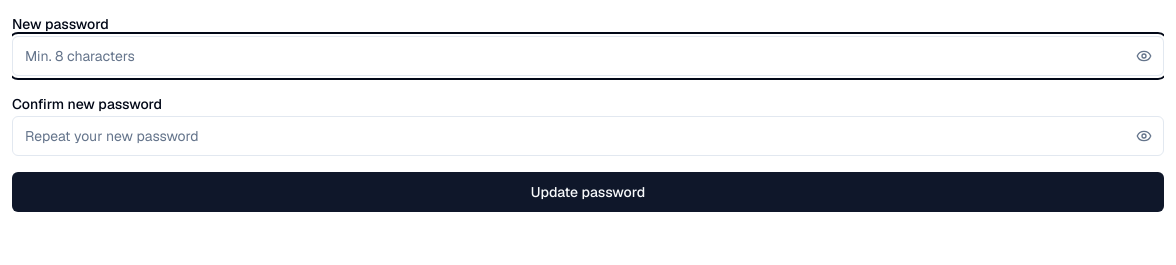
ResetPasswordForm › surfaces an expired-token error from the server
Step 1. Type "correcthorse" into the password field labelled "New password" → (588, 56), box [12,36,1164,76]
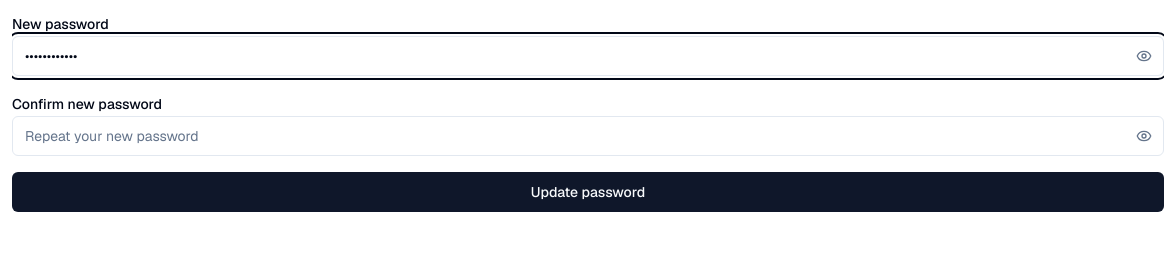
Step 2. Type "correcthorse" into the password field labelled "Confirm new password" → (588, 136), box [12,116,1164,156]
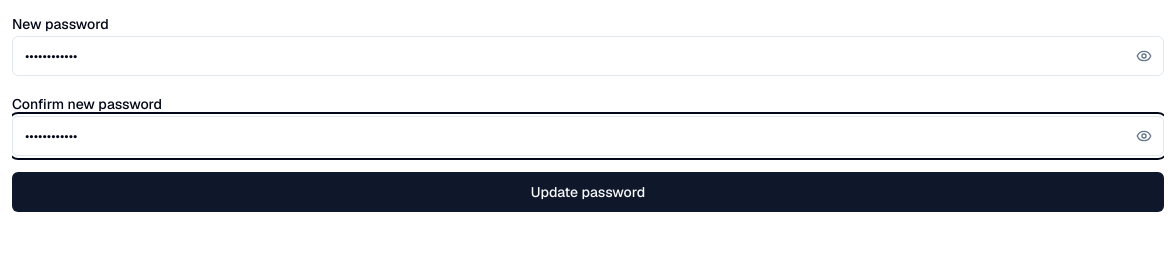
Step 3. Click the button "Update password" → (588, 192), box [12,172,1164,212]
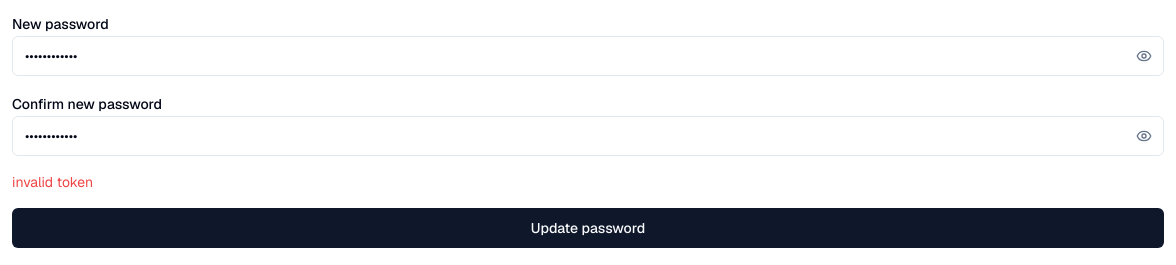
Expected: the message reads "invalid token", [12,173,93,191]
